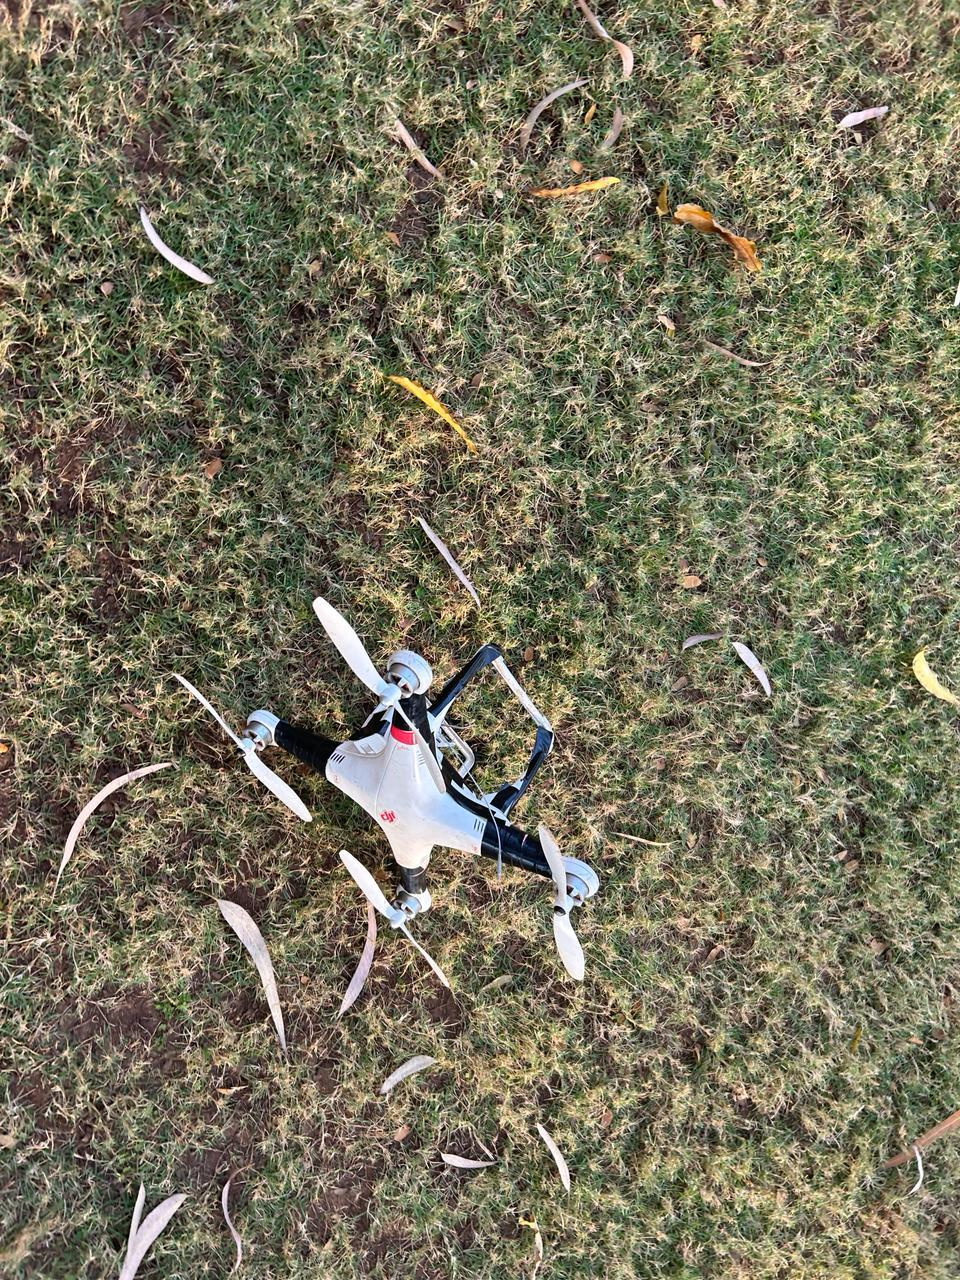drone: (159, 585, 632, 1016)
